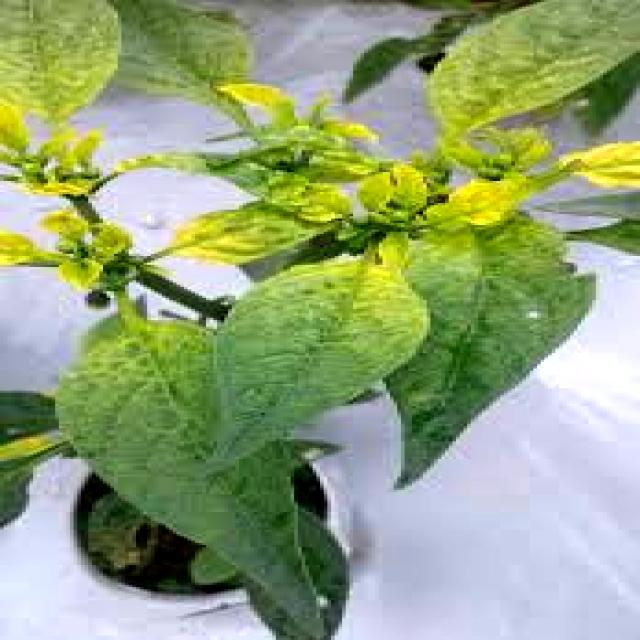yellowish leaf: (200, 81, 544, 298), (0, 106, 155, 313), (560, 141, 640, 194)
